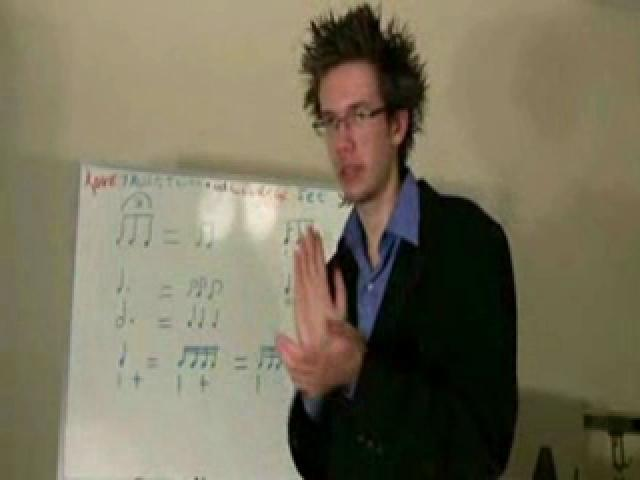F: (267, 0, 530, 480)
